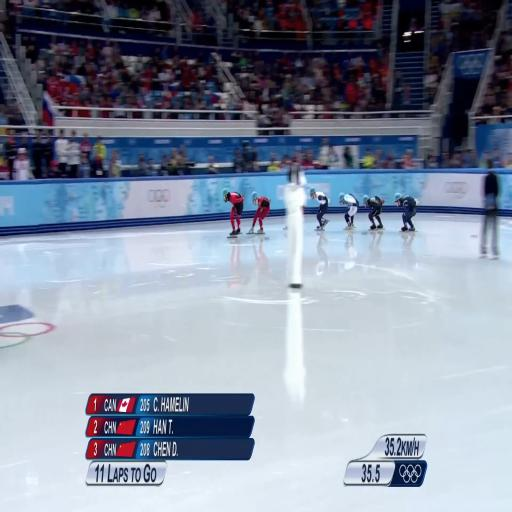Skater: (223, 189, 243, 236), (248, 192, 270, 234), (395, 193, 417, 231), (310, 188, 328, 230), (339, 193, 358, 229), (363, 195, 383, 229)
